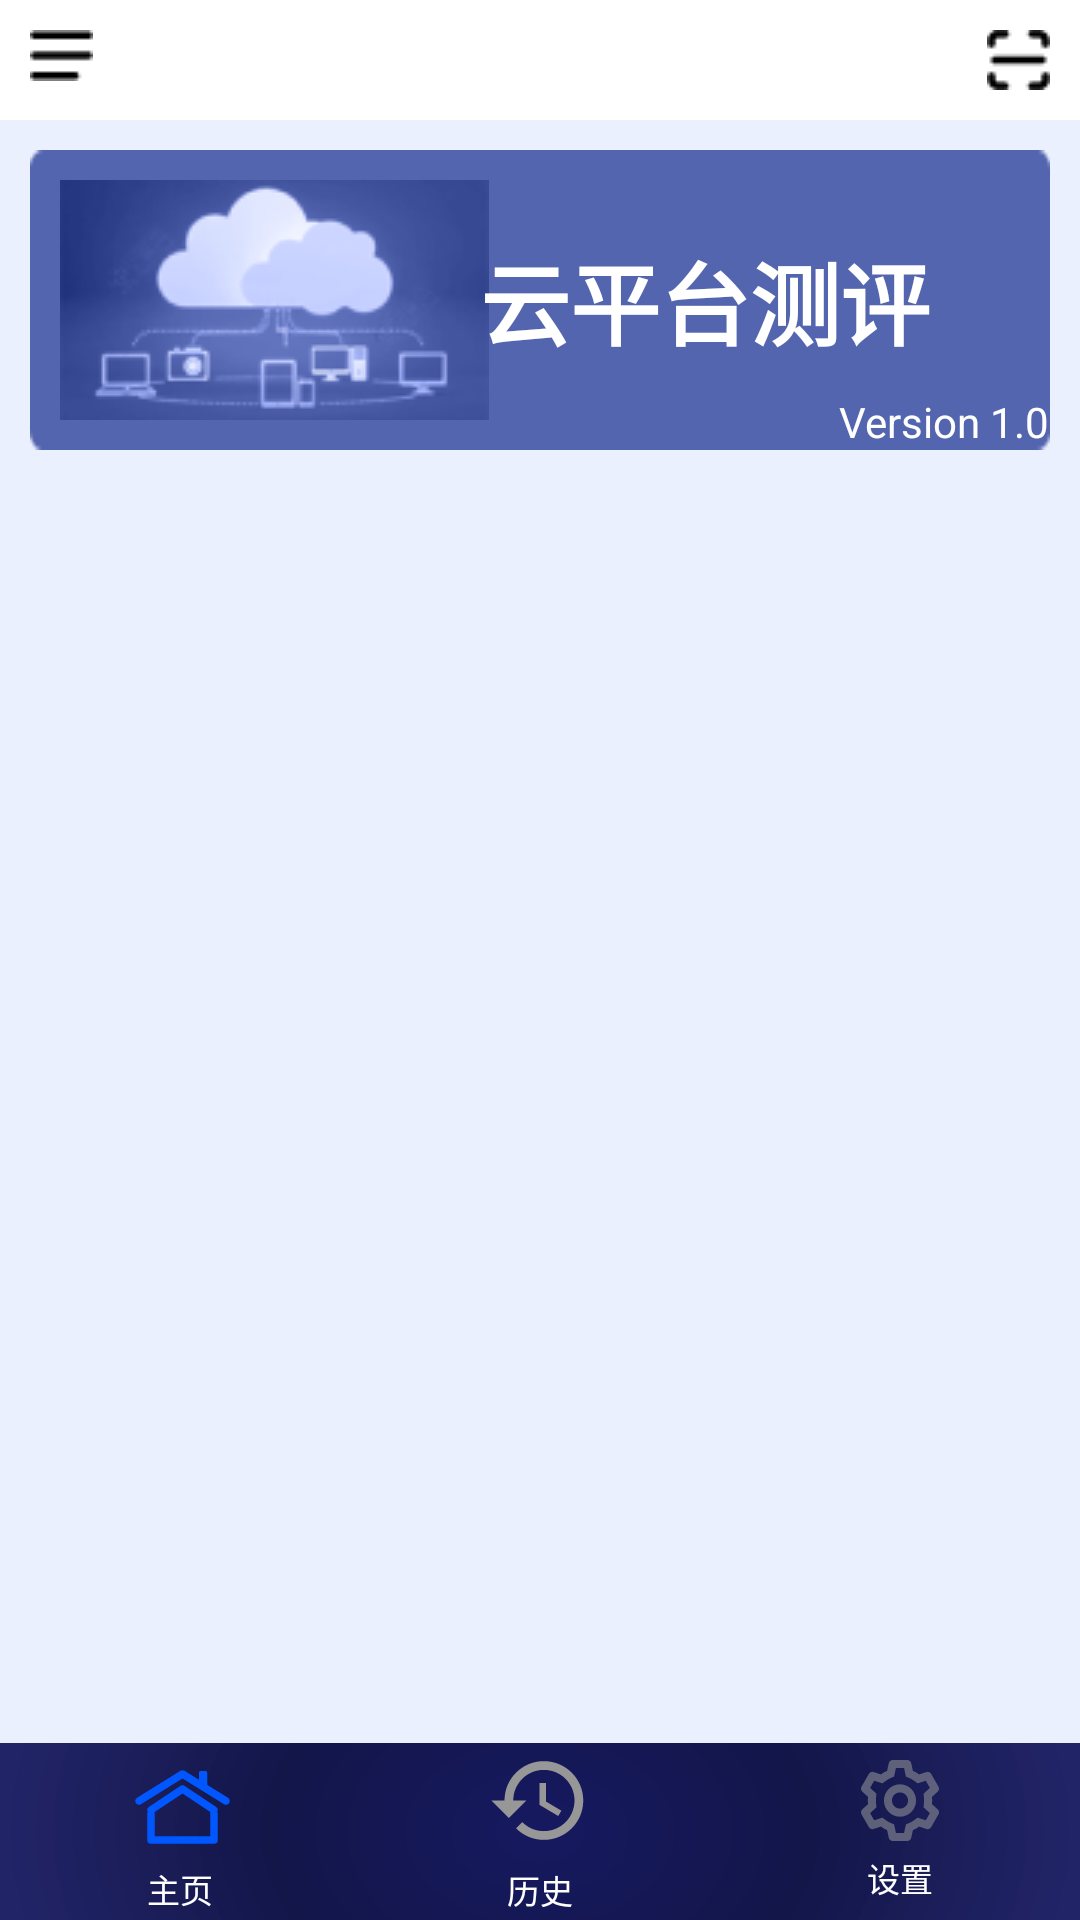

Where to tap for icons on this 1080 × 1920 app screen, as (x,y):
menu: (61,55)
qr code: (1018,60)
